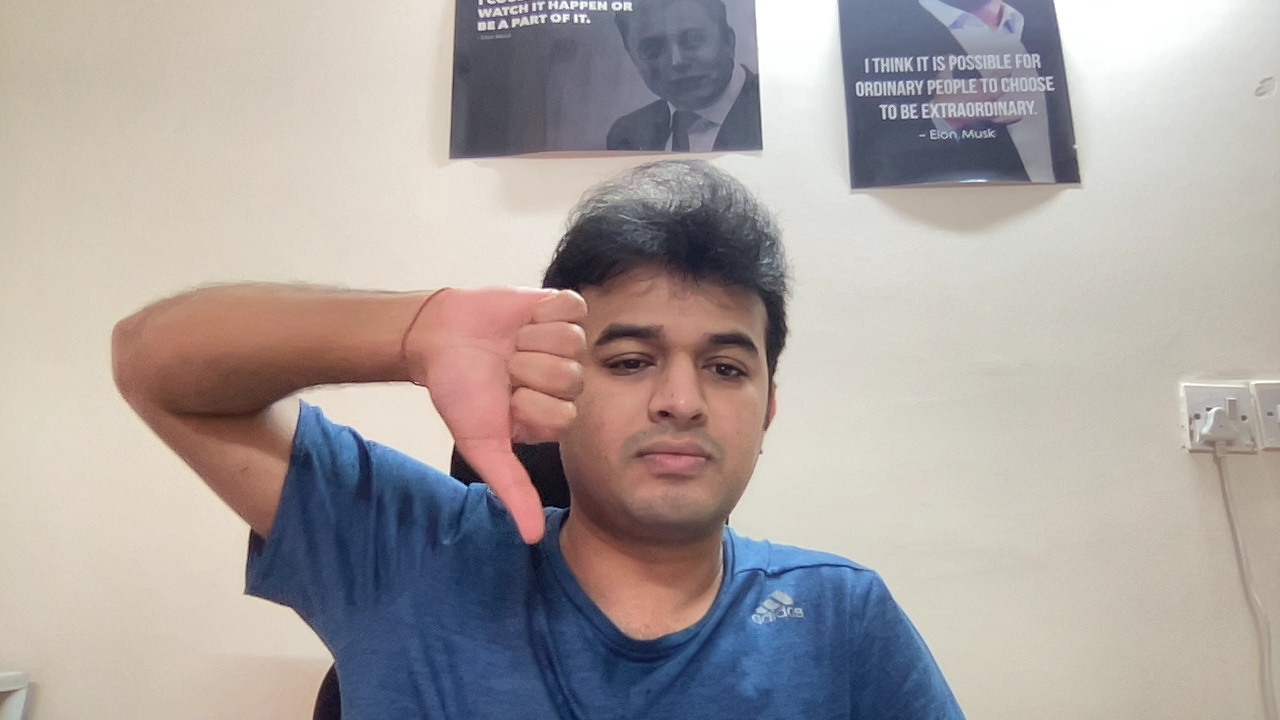down: (416, 277, 595, 559)
